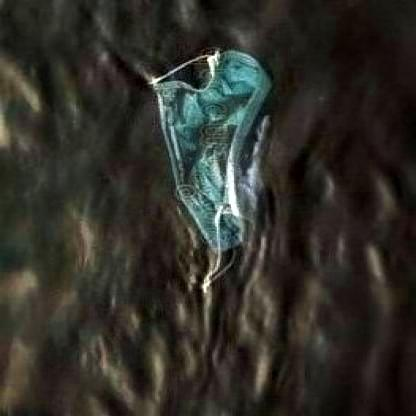Mask: (136, 46, 277, 291)
